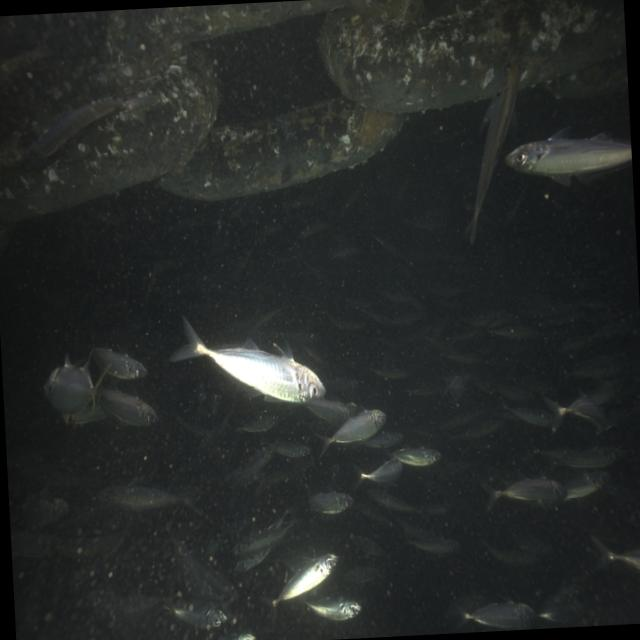ChainLink: (0, 53, 217, 220), (322, 0, 626, 113), (160, 98, 404, 200), (107, 0, 345, 68), (345, 0, 424, 21)
